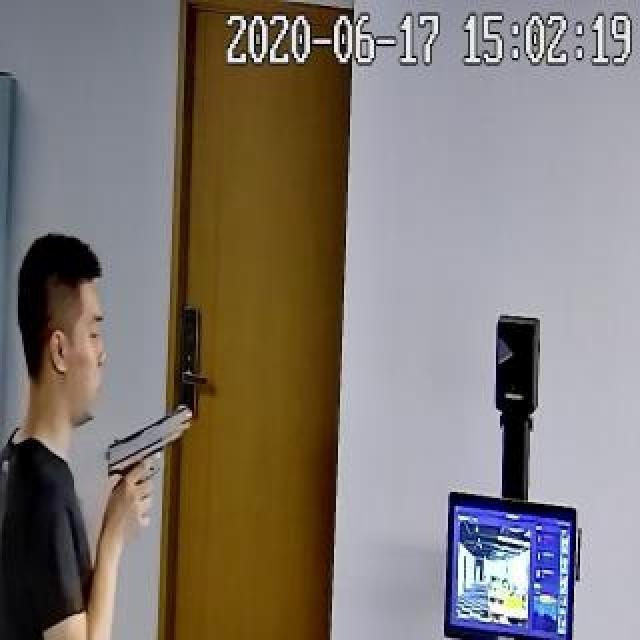Guns: (97, 389, 199, 530)
